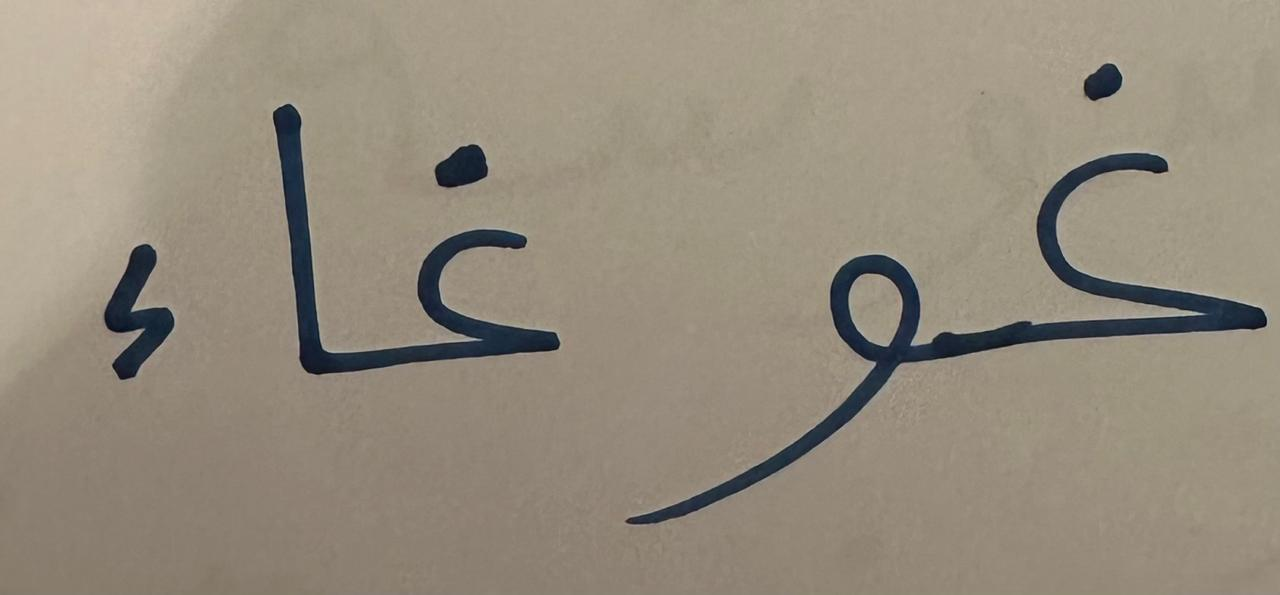alef: (234, 65, 344, 422)
ghain: (962, 25, 1271, 419), (347, 87, 602, 426)
heh: (51, 156, 227, 443)
yeh: (607, 144, 957, 546)
